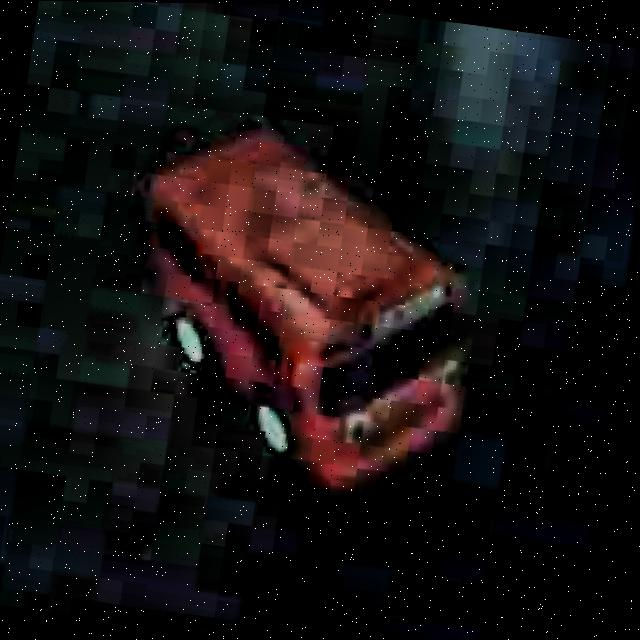bus: (96, 81, 508, 524)
